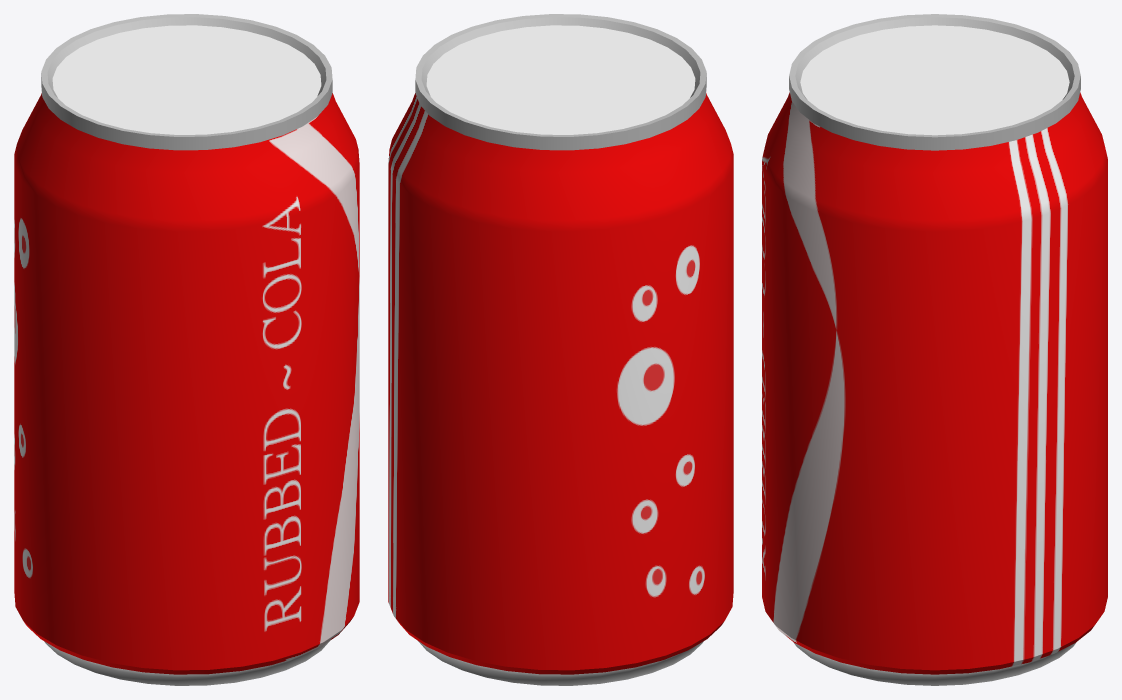
Rendered from Rubbed_Cola.fbx.
The picture shows the model from 3 angles, left to right: view 1: azimuth 30°, elevation 25°; view 2: azimuth 150°, elevation 25°; view 3: azimuth 270°, elevation 25°; orthographic projection.
Parts seen in each view (by area): view 1: Cylinder; view 2: Cylinder; view 3: Cylinder.
Part boxes in pixels (x1,y1,x2,y2): Cylinder: [14, 14, 359, 685]; Cylinder: [388, 14, 733, 685]; Cylinder: [762, 14, 1107, 685].
Size of the model in its own units: 6.82 by 11.91 by 6.82.
